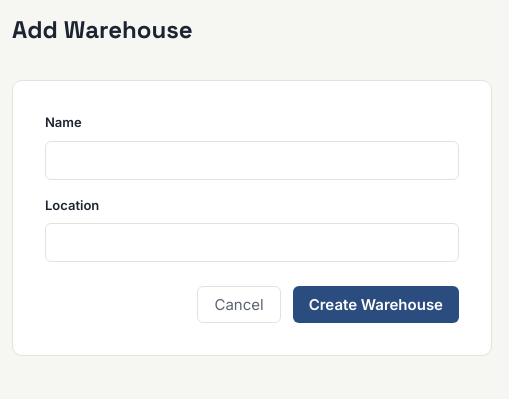
Test: WarehouseForm › shows a validation error and does not submit if name is empty
Click the button "Create Warehouse" at (376, 304), box [293, 286, 459, 323]
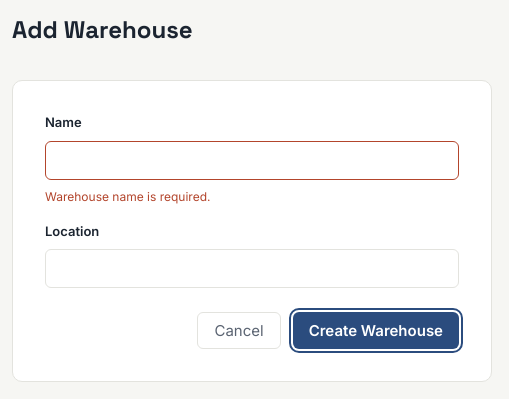
Expected: the text "Warehouse name is required." is shown, [45, 188, 210, 204]
